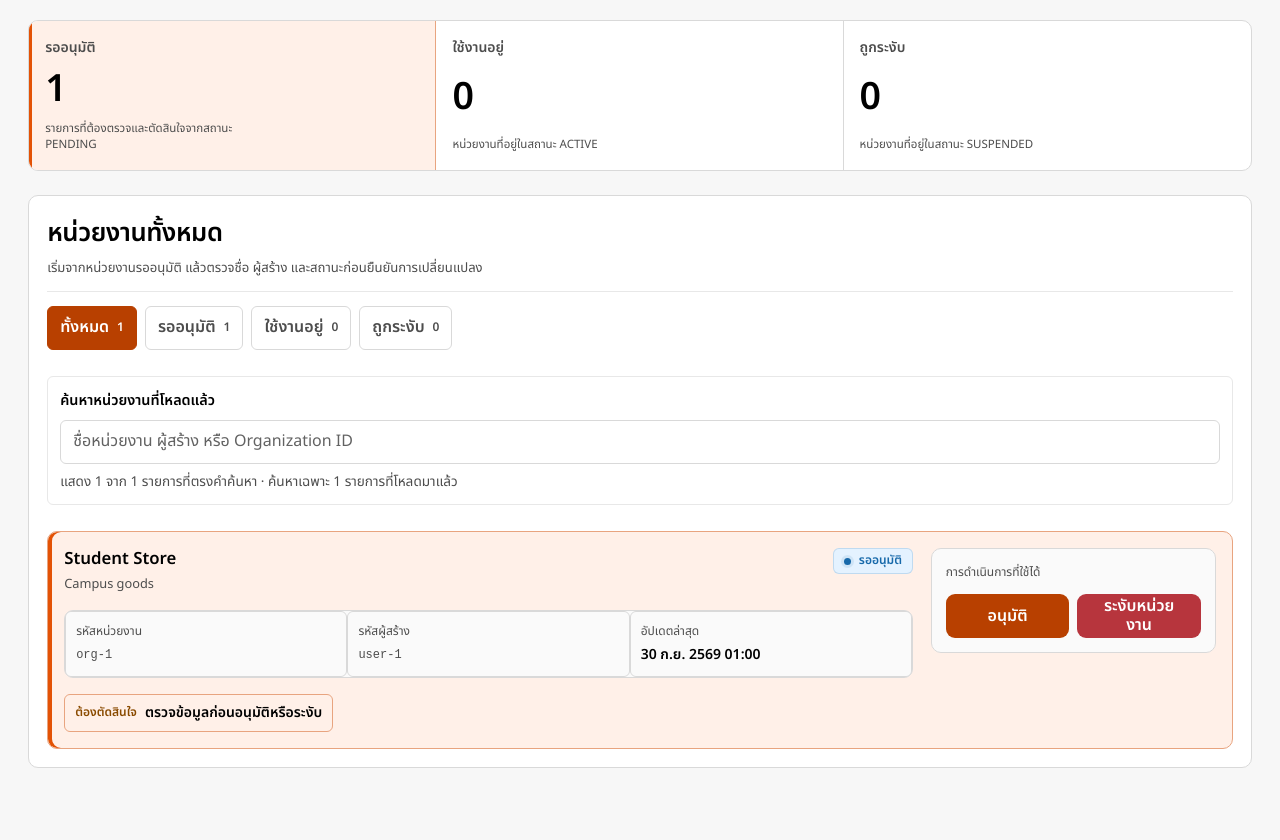
Test case: PlatformOrganizationsView › confirms suspension and removes further transition actions
This screenshot has width=1280, height=840.
(page scrolled)
Expected: the heading "Student Store" is shown, [64,546,176,572]
Click the button "ระงับหน่วยงาน": (1139,616) [1077,594,1201,638]
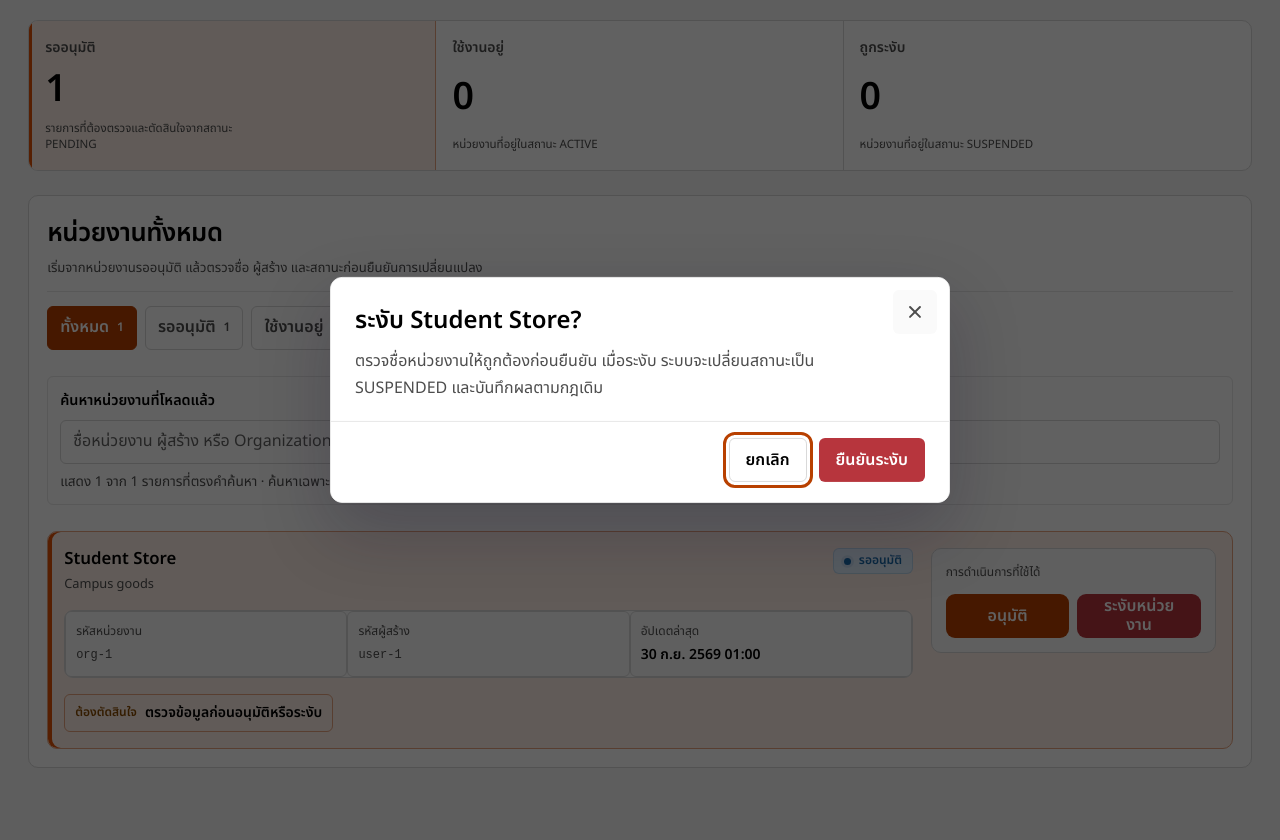
Click the button "ยืนยันระงับ": (872,460) [818,438,925,482]
(page scrolled)
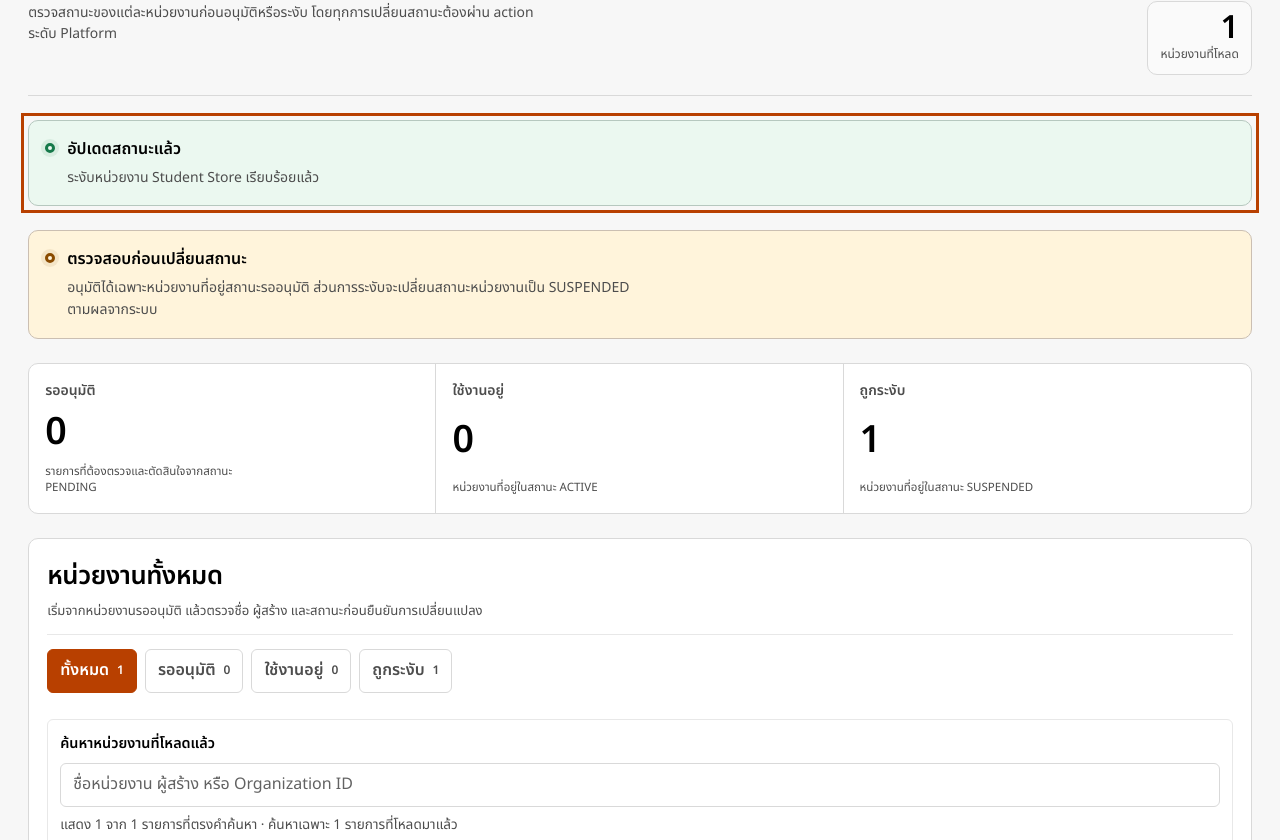
Now the text "ระงับหน่วยงาน Student Store เรียบร้อยแล้ว" is shown, box [67,167,319,188]
